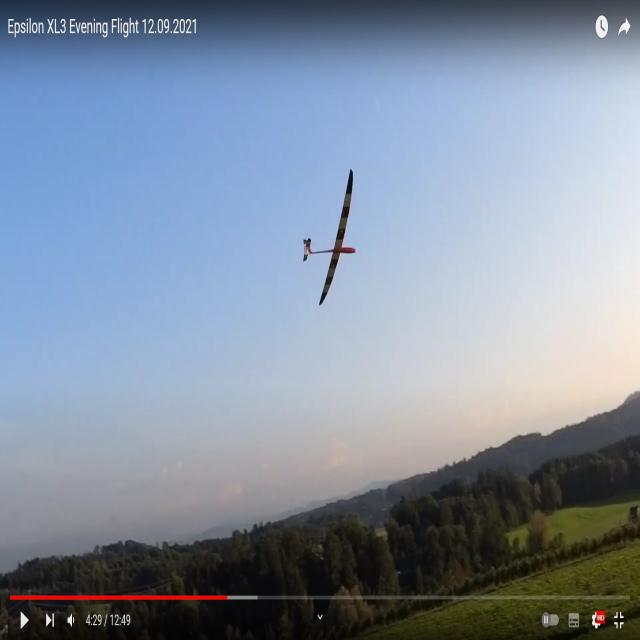iha: (296, 169, 350, 299)
